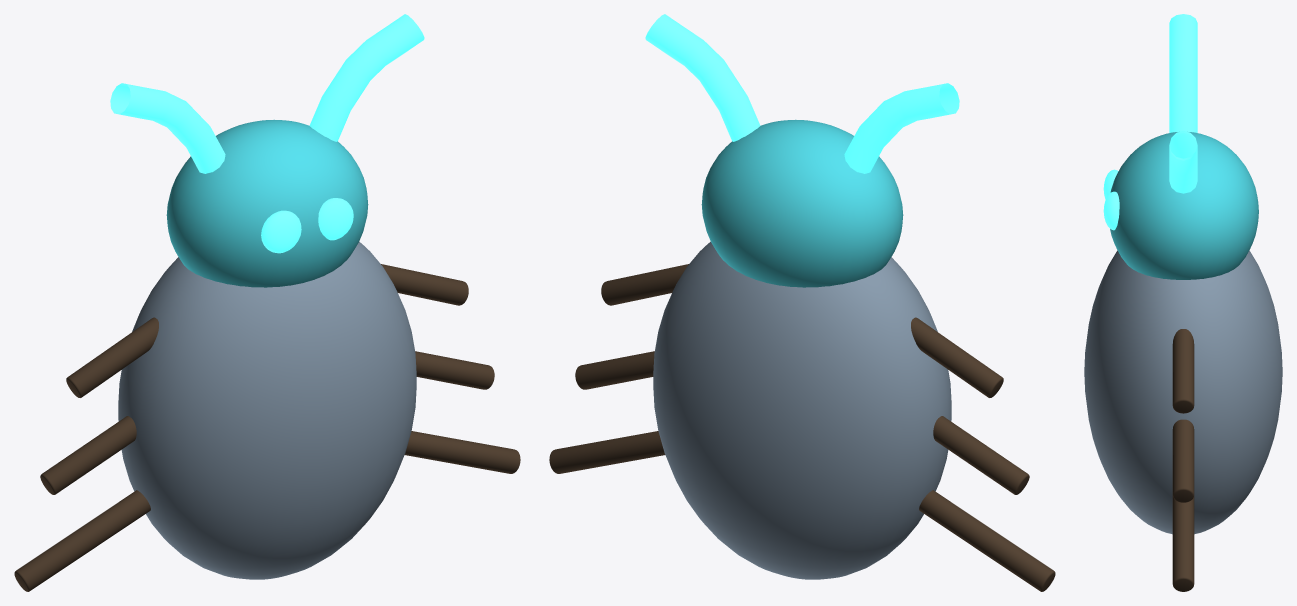
The model's file is insect_v8.glb.
3 renders of one model, left to right at view 1: azimuth 30°, elevation 25°; view 2: azimuth 150°, elevation 25°; view 3: azimuth 270°, elevation 25°, orthographic. The views are drawn at different scales.
Visible parts, largest first — view 1: STAG_BEETLE_BODY_PRIMARY, STAG_BEETLE_HEAD_ACCENT, MANDIBLE_EMISSIVE.001, MANDIBLE_EMISSIVE, STAG_BEETLE_LEG_SECONDARY.002, STAG_BEETLE_LEG_SECONDARY.005, STAG_BEETLE_LEG_SECONDARY.001, STAG_BEETLE_LEG_SECONDARY, STAG_BEETLE_LEG_SECONDARY.003, STAG_BEETLE_LEG_SECONDARY.004, EYE_EMISSIVE, EYE_EMISSIVE.001; view 2: STAG_BEETLE_BODY_PRIMARY, STAG_BEETLE_HEAD_ACCENT, MANDIBLE_EMISSIVE.001, MANDIBLE_EMISSIVE, STAG_BEETLE_LEG_SECONDARY.002, STAG_BEETLE_LEG_SECONDARY.005, STAG_BEETLE_LEG_SECONDARY.001, STAG_BEETLE_LEG_SECONDARY, STAG_BEETLE_LEG_SECONDARY.003, STAG_BEETLE_LEG_SECONDARY.004; view 3: STAG_BEETLE_BODY_PRIMARY, STAG_BEETLE_HEAD_ACCENT, MANDIBLE_EMISSIVE, STAG_BEETLE_LEG_SECONDARY.005, STAG_BEETLE_LEG_SECONDARY.004, STAG_BEETLE_LEG_SECONDARY.003, MANDIBLE_EMISSIVE.001, EYE_EMISSIVE.001.
Boxes of the visible parts, x1,y1,x2,y2 form: STAG_BEETLE_BODY_PRIMARY: (118, 241, 416, 579); STAG_BEETLE_HEAD_ACCENT: (166, 119, 368, 287); MANDIBLE_EMISSIVE.001: (309, 14, 424, 141); MANDIBLE_EMISSIVE: (110, 83, 225, 173); STAG_BEETLE_LEG_SECONDARY.002: (14, 490, 150, 591); STAG_BEETLE_LEG_SECONDARY.005: (404, 431, 520, 473); STAG_BEETLE_LEG_SECONDARY.001: (40, 416, 136, 494); STAG_BEETLE_LEG_SECONDARY: (66, 317, 158, 397); STAG_BEETLE_LEG_SECONDARY.003: (381, 264, 468, 305); STAG_BEETLE_LEG_SECONDARY.004: (415, 351, 494, 389); EYE_EMISSIVE: (261, 210, 301, 253); EYE_EMISSIVE.001: (318, 198, 353, 240); STAG_BEETLE_BODY_PRIMARY: (653, 241, 951, 579); STAG_BEETLE_HEAD_ACCENT: (701, 119, 903, 287); MANDIBLE_EMISSIVE.001: (645, 14, 760, 141); MANDIBLE_EMISSIVE: (844, 83, 959, 173); STAG_BEETLE_LEG_SECONDARY.002: (919, 490, 1055, 591); STAG_BEETLE_LEG_SECONDARY.005: (549, 431, 665, 473); STAG_BEETLE_LEG_SECONDARY.001: (933, 416, 1029, 494); STAG_BEETLE_LEG_SECONDARY: (911, 317, 1003, 397); STAG_BEETLE_LEG_SECONDARY.003: (601, 264, 688, 305); STAG_BEETLE_LEG_SECONDARY.004: (575, 351, 654, 389); STAG_BEETLE_BODY_PRIMARY: (1084, 250, 1282, 534); STAG_BEETLE_HEAD_ACCENT: (1110, 132, 1258, 279); MANDIBLE_EMISSIVE: (1169, 14, 1197, 132); STAG_BEETLE_LEG_SECONDARY.005: (1172, 496, 1194, 591); STAG_BEETLE_LEG_SECONDARY.004: (1172, 419, 1194, 502); STAG_BEETLE_LEG_SECONDARY.003: (1172, 329, 1194, 413); MANDIBLE_EMISSIVE.001: (1169, 131, 1197, 193); EYE_EMISSIVE.001: (1103, 191, 1119, 230).
Bounding box in the file's own units: 2.31 × 2.31 × 0.92.
